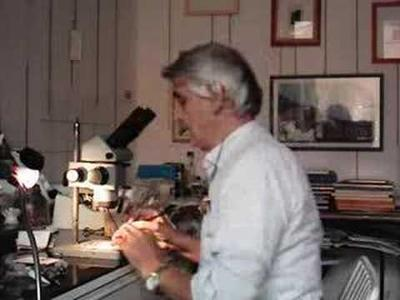person: (113, 43, 325, 298)
